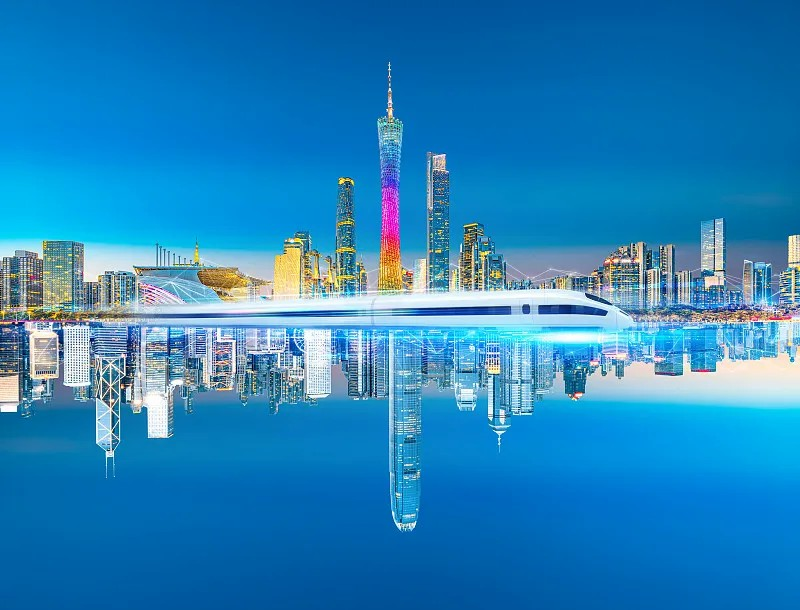Canton: (376, 57, 402, 294)
